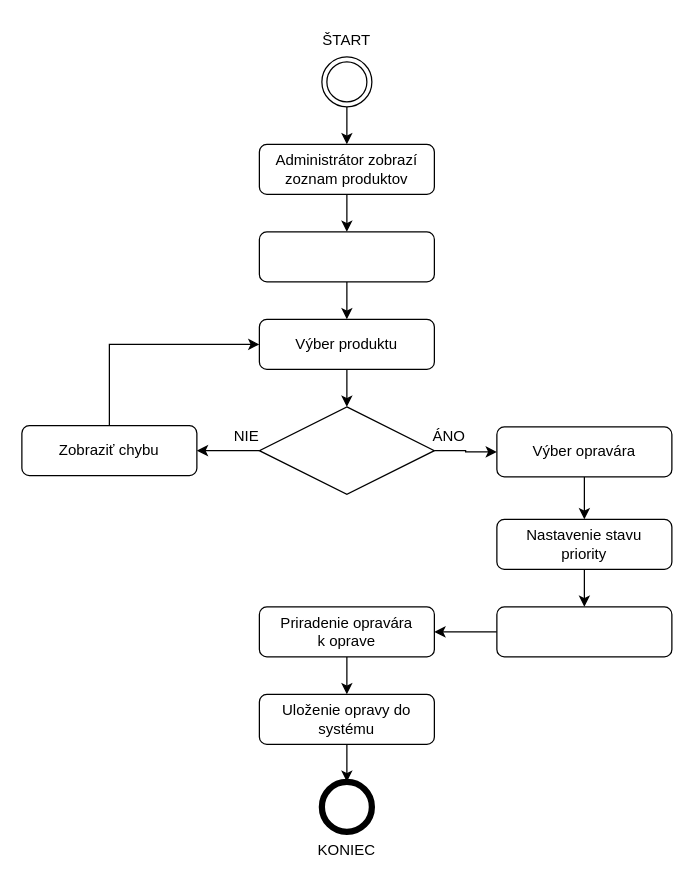
Some shapes in this 694 by 890 pixel diagram are drawn without their labels. Here are the shapes that lost their labels. From the top down, the centre of each, then its label:
point (346, 256): Filtrovanie produktov so stavom "pokazený"
point (346, 450): Je produkt pokazený?
point (584, 631): Vytvorenie záznamu v tabuľke Oprava
